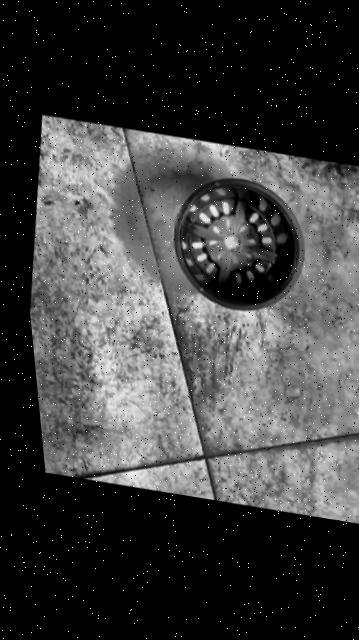pot: (158, 169, 318, 320)
